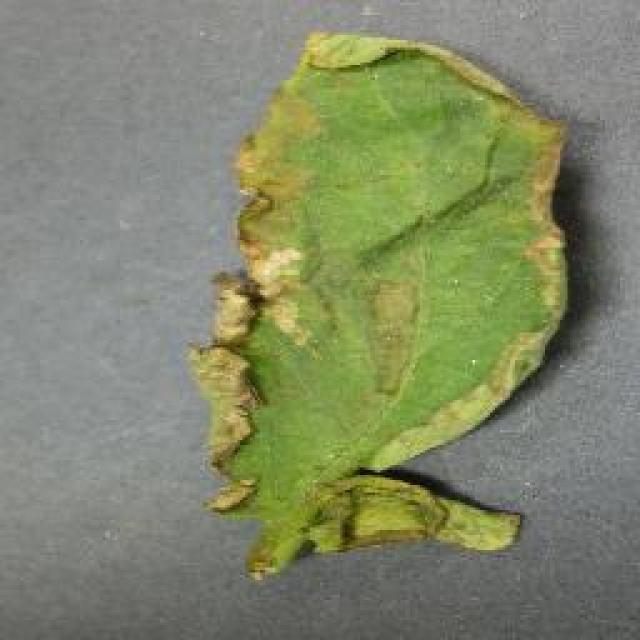Tomato___Bacterial_spot: (174, 31, 569, 587)
